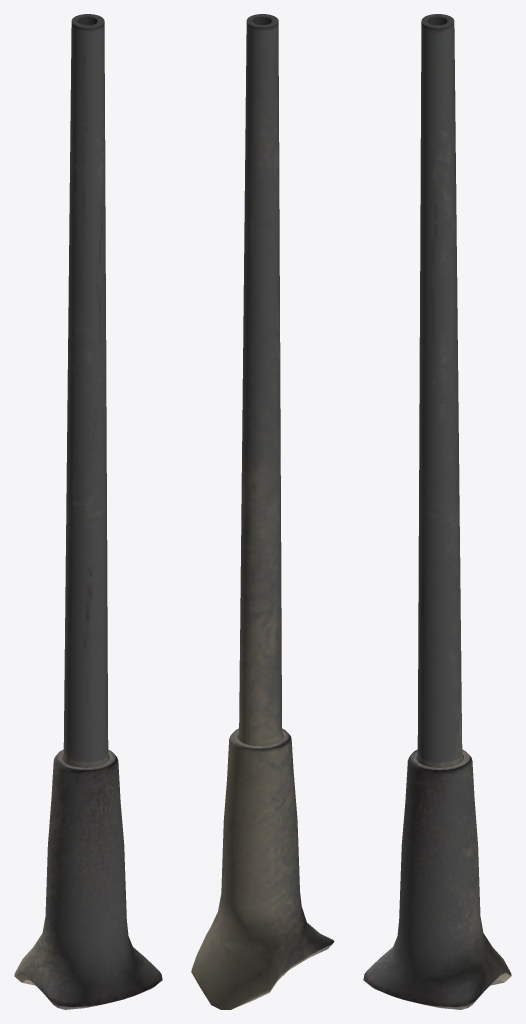
Rendered from Gun_06.glb.
3 renders of one model, left to right at view 1: azimuth 30°, elevation 25°; view 2: azimuth 150°, elevation 25°; view 3: azimuth 330°, elevation 25°, orthographic. The views are drawn at different scales.
Parts seen in each view (by area): view 1: set_0_group_0; view 2: set_0_group_0; view 3: set_0_group_0.
Boxes of the visible parts, <box> form: set_0_group_0: <box>14,14,162,1009</box>; set_0_group_0: <box>191,14,334,1009</box>; set_0_group_0: <box>363,14,511,1009</box>.
Bounding box in the file's own units: 0.5753 × 4.94 × 0.6263.
Materials: 1 (1 with a texture image).
